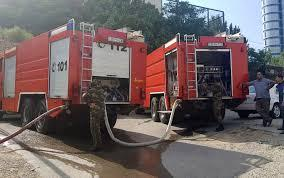Fire-engine: (3, 15, 152, 131), (160, 18, 254, 121)
